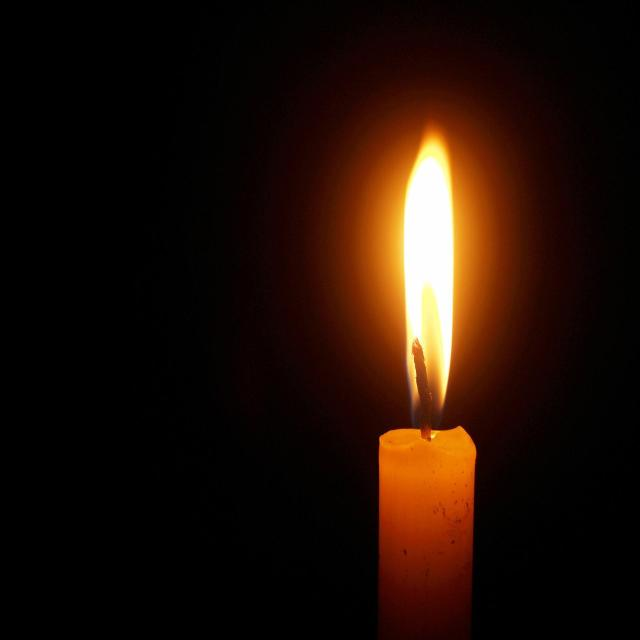Fire_Save: (377, 128, 477, 638), (400, 132, 456, 430)
